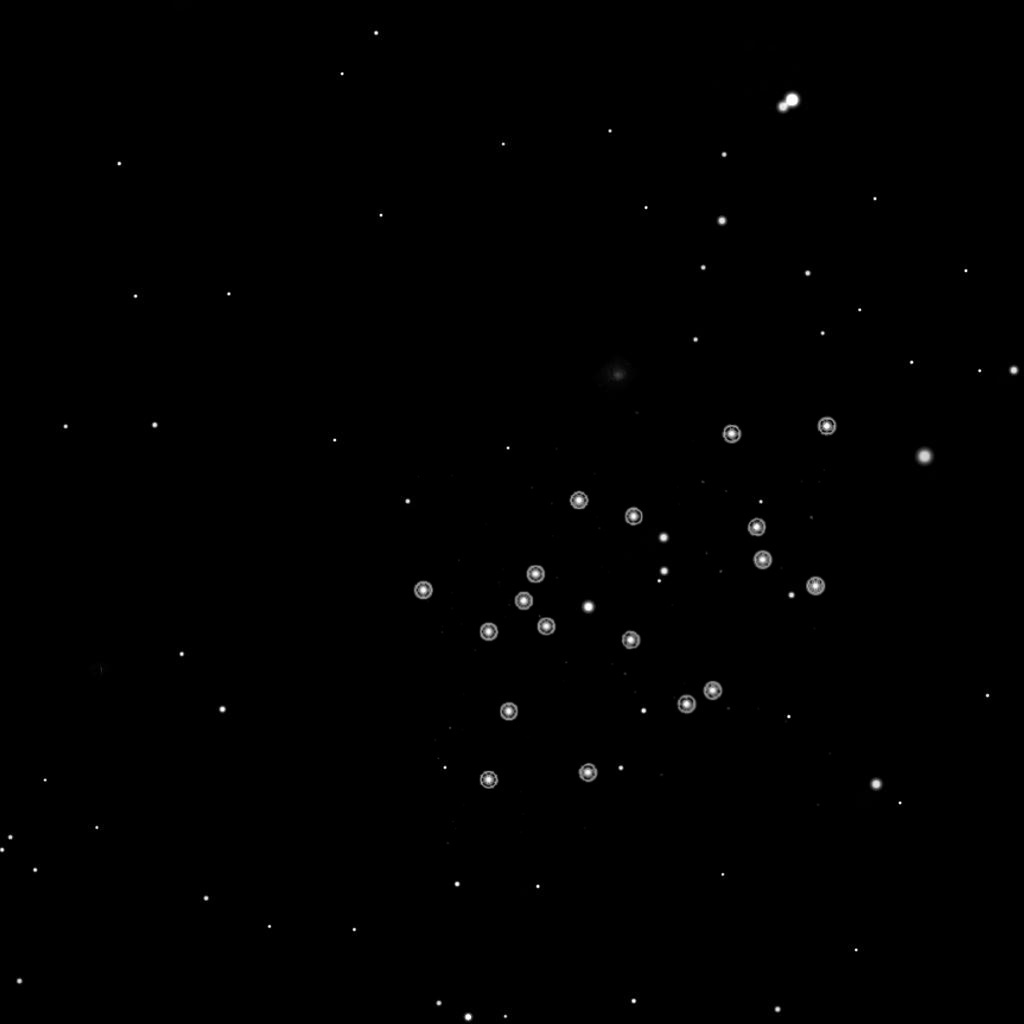canis_major: (472, 488, 647, 649)
